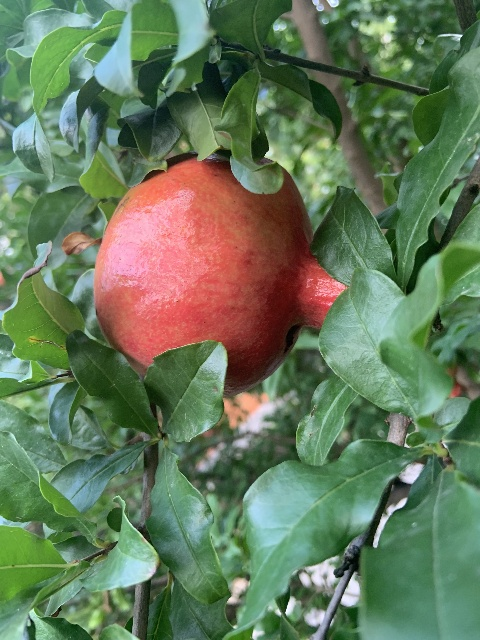ripe: (93, 157, 345, 395)
